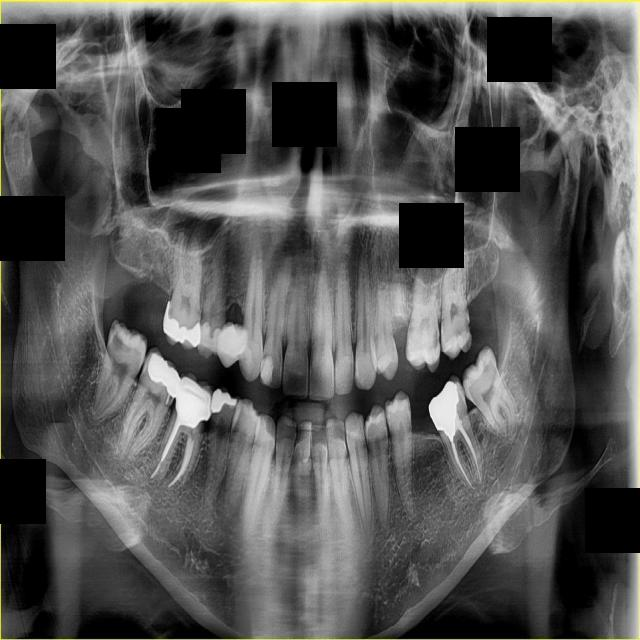71: (161, 393, 208, 469), (451, 412, 474, 449)
72: (387, 261, 411, 331)
74: (168, 434, 200, 491), (449, 440, 472, 489), (468, 441, 483, 481), (150, 460, 163, 479)
NucleOSS Implant: (151, 301, 208, 353), (139, 351, 191, 401), (426, 379, 460, 443), (202, 383, 238, 416)
Sterngold Implant: (100, 321, 133, 359), (454, 314, 477, 348), (405, 316, 417, 343), (431, 326, 441, 355), (207, 412, 217, 438), (481, 360, 494, 377), (199, 419, 208, 443), (192, 304, 202, 320), (200, 309, 208, 326), (168, 305, 174, 316)
Straumann Implant: (216, 320, 249, 369), (199, 320, 222, 358), (257, 355, 275, 385), (238, 350, 253, 376)
Zimmer Implant: (172, 371, 216, 423)
